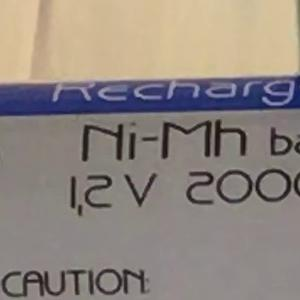NI-MH: (72, 84, 263, 172)
